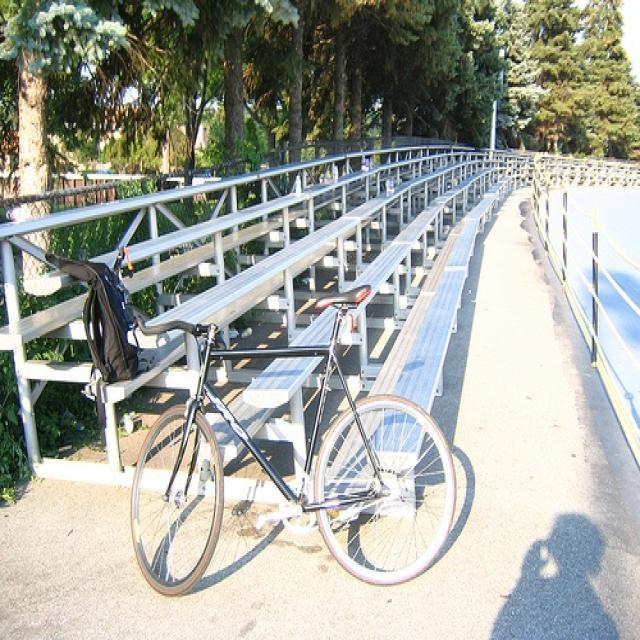bicycle: (129, 283, 456, 596)
